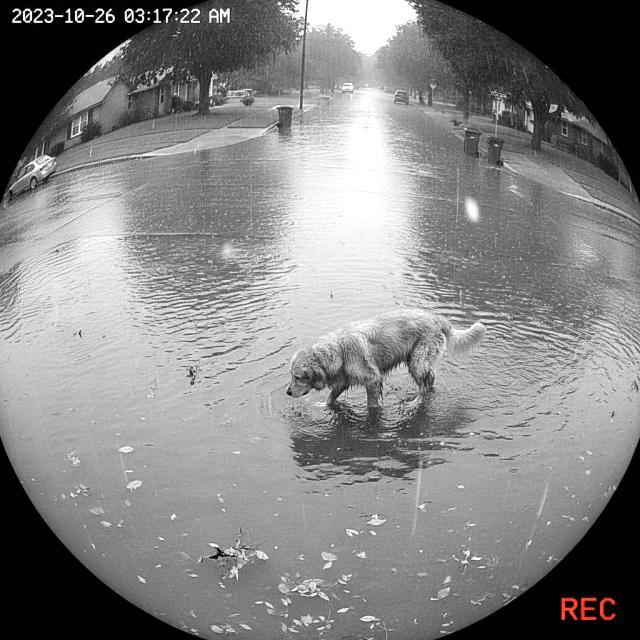dog: (275, 301, 500, 437)
